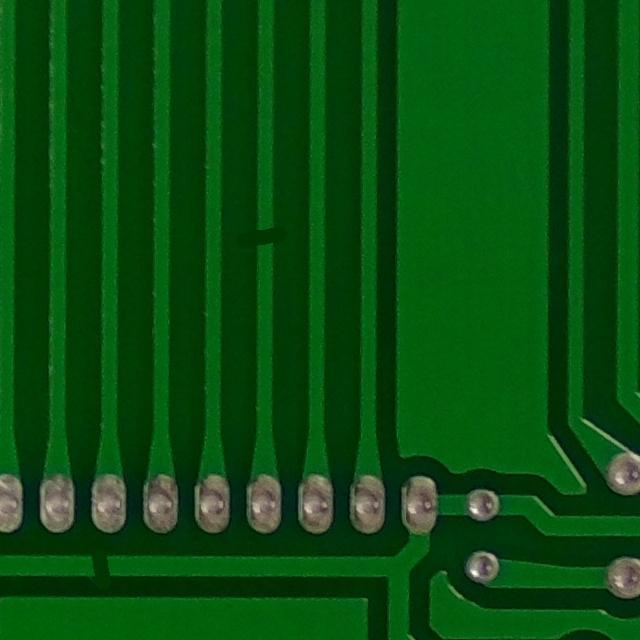open_circuit: (75, 543, 122, 588), (244, 214, 286, 263)
